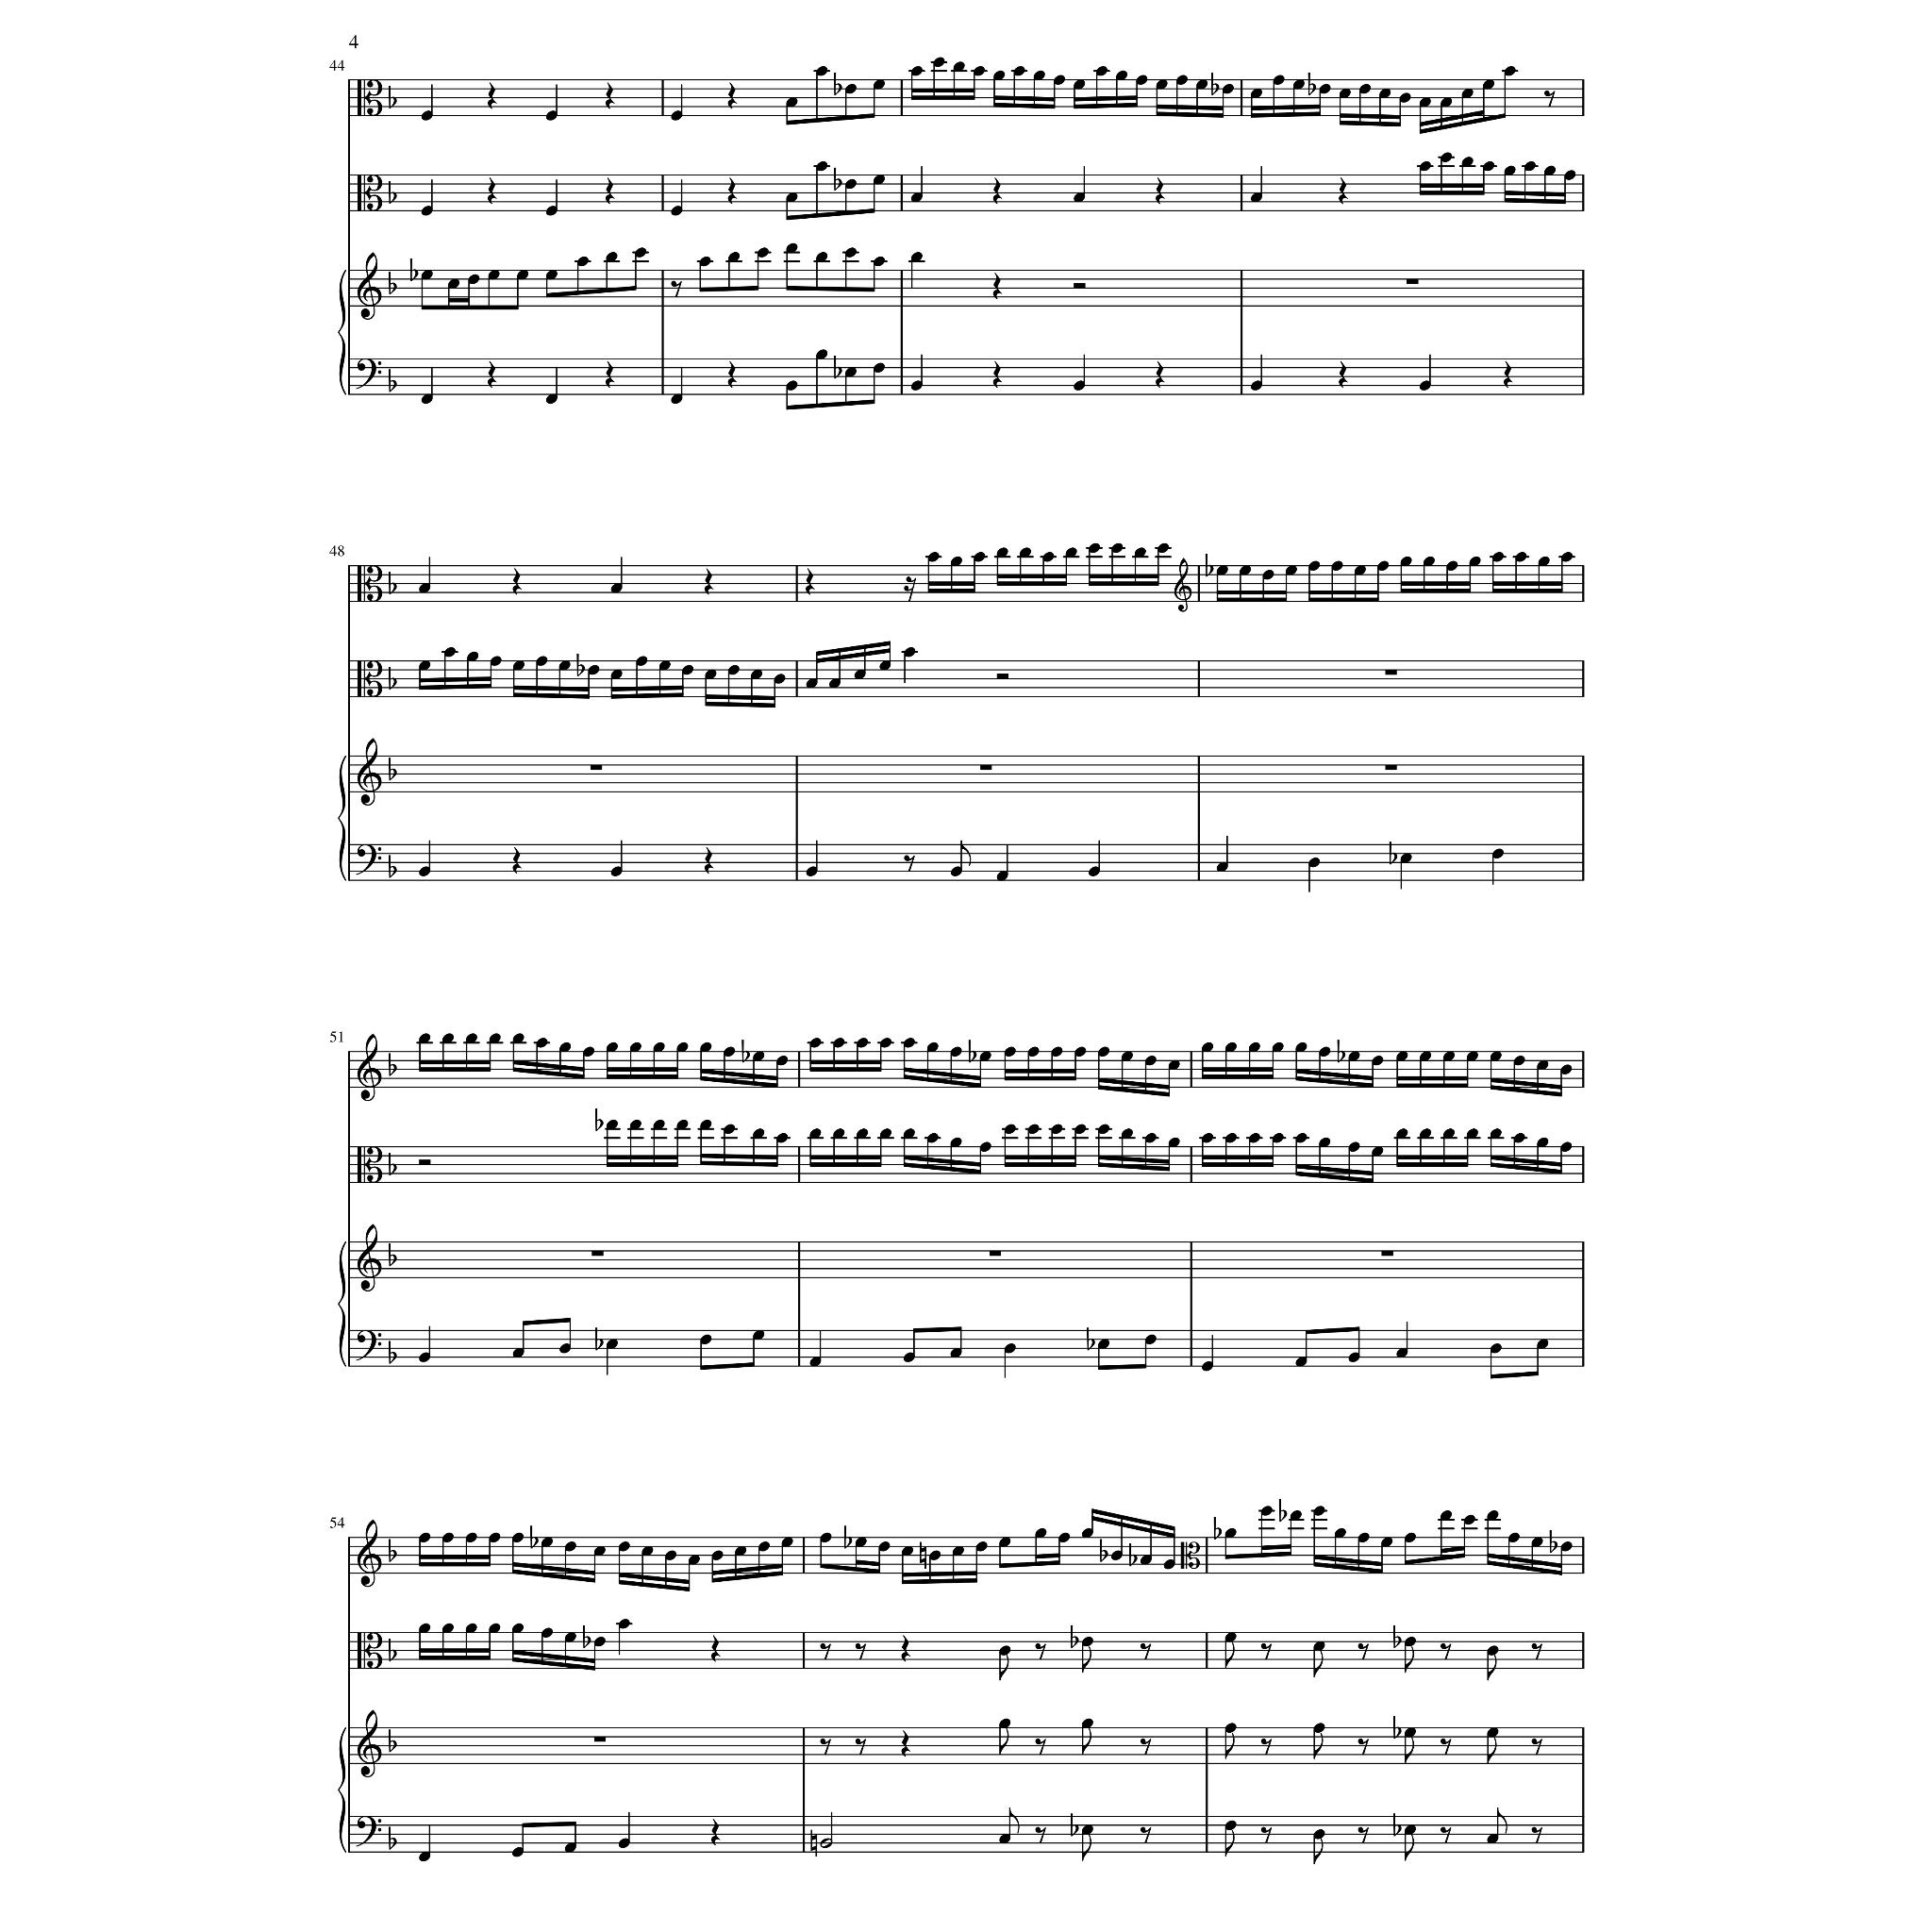brace: (338, 1240, 345, 1368), (338, 269, 345, 395), (338, 755, 345, 881), (338, 1727, 345, 1852)
fClef: (354, 357, 380, 389), (354, 844, 380, 876), (354, 1815, 380, 1847), (354, 1330, 380, 1361)
flag8thDown: (1315, 1732, 1323, 1759), (1226, 1829, 1235, 1856), (1226, 1642, 1235, 1668), (1226, 1732, 1235, 1759), (1315, 1651, 1323, 1677), (1083, 1645, 1092, 1672), (1083, 1729, 1092, 1755), (1083, 1835, 1092, 1861), (1488, 1654, 1497, 1681), (1488, 1737, 1497, 1764), (1315, 1838, 1323, 1865), (1405, 1645, 1414, 1672), (1405, 1737, 1414, 1764), (1405, 1835, 1414, 1861), (1000, 1729, 1008, 1755), (1000, 1654, 1008, 1681)
flag8thUp: (1497, 1808, 1507, 1835), (1008, 1808, 1019, 1835), (961, 840, 971, 865)
gClef: (357, 251, 380, 320), (357, 1709, 380, 1778), (357, 1518, 380, 1587), (357, 738, 380, 805), (357, 1224, 380, 1292), (357, 1033, 380, 1100)
noteheadBlack: (1177, 74, 1189, 85), (1136, 74, 1148, 85), (1221, 83, 1233, 94), (1095, 65, 1108, 76), (1251, 87, 1263, 97), (993, 69, 1005, 80), (971, 65, 984, 76), (932, 57, 945, 67), (952, 60, 964, 71), (1012, 65, 1024, 76), (1033, 69, 1046, 80), (1053, 74, 1065, 85), (1523, 161, 1536, 172), (1545, 165, 1557, 175), (1483, 161, 1495, 172), (1564, 170, 1576, 180), (1338, 87, 1350, 97), (1359, 83, 1371, 94), (1272, 74, 1284, 85), (1318, 83, 1330, 94), (1440, 97, 1453, 108), (1461, 87, 1474, 97), (1461, 156, 1474, 166), (1378, 87, 1391, 97), (1398, 92, 1410, 103), (1419, 97, 1431, 108), (1419, 161, 1431, 172), (605, 251, 617, 262), (545, 110, 557, 120), (545, 205, 557, 216), (545, 269, 557, 280), (545, 393, 557, 403), (671, 110, 683, 120), (633, 246, 646, 257), (515, 269, 527, 280), (671, 205, 683, 216), (671, 393, 683, 403), (487, 269, 499, 280), (446, 278, 458, 288), (467, 272, 479, 283), (872, 173, 885, 184), (844, 83, 856, 94), (844, 246, 856, 257), (844, 366, 856, 377), (909, 251, 922, 262), (872, 255, 885, 265), (872, 361, 885, 372), (909, 65, 922, 76), (786, 97, 798, 108), (786, 242, 798, 253), (755, 246, 768, 257), (699, 255, 711, 265), (816, 65, 828, 76), (816, 161, 828, 172), (816, 251, 828, 262), (816, 349, 828, 359), (727, 251, 740, 262), (1157, 541, 1169, 552), (1215, 564, 1228, 575), (1215, 862, 1228, 872), (927, 552, 939, 563), (1134, 547, 1146, 557), (1111, 541, 1123, 552), (1238, 564, 1251, 575), (996, 547, 1008, 557), (973, 552, 985, 563), (996, 870, 1008, 881), (950, 865, 962, 876), (950, 556, 962, 566), (1065, 547, 1077, 557), (1042, 552, 1054, 563), (1019, 547, 1031, 557), (1537, 556, 1550, 566), (1514, 552, 1527, 563), (1560, 552, 1573, 563), (1491, 552, 1504, 563), (1468, 556, 1481, 566), (1330, 559, 1343, 570), (1353, 564, 1366, 575), (1261, 570, 1274, 580), (1284, 564, 1297, 575), (1307, 559, 1320, 570), (1307, 856, 1320, 867), (1422, 556, 1435, 566), (1445, 559, 1458, 570), (1399, 853, 1412, 863), (1399, 556, 1412, 566), (1376, 559, 1389, 570), (536, 655, 548, 665), (557, 660, 570, 671), (511, 660, 524, 671), (488, 655, 501, 665), (635, 655, 648, 665), (658, 660, 671, 671), (587, 665, 600, 676), (610, 582, 623, 593), (610, 669, 623, 679), (610, 865, 623, 876), (467, 651, 479, 662), (418, 865, 430, 876), (418, 660, 430, 671), (418, 582, 430, 593), (805, 678, 817, 688), (805, 865, 817, 876), (828, 678, 840, 688), (853, 669, 865, 679), (879, 660, 892, 671), (750, 669, 763, 679), (704, 669, 717, 679), (727, 665, 740, 676), (773, 672, 786, 683), (681, 665, 694, 676), (1201, 1361, 1214, 1371), (1224, 1042, 1237, 1053), (1224, 1132, 1237, 1143), (1295, 1042, 1307, 1053), (1295, 1132, 1307, 1143), (1295, 1355, 1307, 1366), (1318, 1138, 1330, 1148), (1247, 1042, 1260, 1053), (1247, 1132, 1260, 1143), (1270, 1042, 1283, 1053), (1270, 1132, 1283, 1143), (1074, 1123, 1086, 1134), (1097, 1123, 1109, 1134), (1097, 1339, 1109, 1350), (1026, 1123, 1039, 1134), (1051, 1123, 1063, 1134), (1168, 1138, 1180, 1148), (1168, 1060, 1180, 1070), (1201, 1042, 1214, 1053), (1122, 1051, 1134, 1062), (1122, 1127, 1134, 1138), (1201, 1132, 1214, 1143), (1536, 1339, 1548, 1350), (1560, 1063, 1573, 1074), (1560, 1141, 1573, 1152), (1513, 1054, 1525, 1065), (1513, 1132, 1525, 1143), (1536, 1060, 1548, 1070), (1536, 1138, 1548, 1148), (1371, 1054, 1384, 1065), (1396, 1051, 1408, 1062), (1396, 1127, 1408, 1138), (1396, 1348, 1408, 1359), (1348, 1051, 1361, 1062), (1348, 1141, 1361, 1152), (1348, 1352, 1361, 1362), (1467, 1051, 1479, 1062), (1467, 1127, 1479, 1138), (1490, 1051, 1502, 1062), (1490, 1127, 1502, 1138), (1490, 1343, 1502, 1353), (1419, 1051, 1431, 1062), (1419, 1127, 1431, 1138), (1442, 1051, 1454, 1062), (1442, 1127, 1454, 1138), (653, 1042, 665, 1053), (653, 1120, 665, 1131), (605, 1042, 617, 1053), (605, 1120, 617, 1131), (605, 1339, 617, 1350), (724, 1123, 736, 1134), (752, 1051, 764, 1062), (752, 1127, 764, 1138), (676, 1042, 688, 1053), (676, 1120, 688, 1131), (699, 1042, 711, 1053), (699, 1120, 711, 1131), (699, 1334, 711, 1345), (418, 1352, 430, 1362), (536, 1037, 548, 1047), (511, 1348, 524, 1359), (559, 1042, 571, 1053), (559, 1343, 571, 1353), (902, 1352, 915, 1362), (925, 1042, 938, 1053), (925, 1132, 938, 1143), (879, 1037, 892, 1047), (879, 1127, 892, 1138), (902, 1037, 915, 1047), (902, 1127, 915, 1138), (1003, 1123, 1016, 1134), (1003, 1343, 1016, 1353), (950, 1138, 962, 1148), (950, 1348, 962, 1359), (978, 1051, 991, 1062), (978, 1141, 991, 1152), (809, 1037, 821, 1047), (809, 1127, 821, 1138), (809, 1355, 821, 1366), (856, 1127, 869, 1138), (856, 1037, 869, 1047), (1313, 1506, 1325, 1516), (1313, 1723, 1325, 1734), (1313, 1829, 1325, 1840), (1260, 1506, 1272, 1516), (1290, 1509, 1302, 1520), (1081, 1637, 1093, 1647), (1081, 1718, 1093, 1729), (1081, 1824, 1093, 1835), (1058, 1532, 1070, 1543), (1162, 1559, 1175, 1569), (1224, 1633, 1237, 1644), (1224, 1723, 1237, 1734), (1224, 1821, 1237, 1831), (1139, 1553, 1152, 1564), (1109, 1550, 1122, 1560), (1507, 1532, 1520, 1543), (1530, 1537, 1543, 1548), (1486, 1509, 1499, 1520), (1486, 1645, 1499, 1656), (1486, 1833, 1499, 1844), (1560, 1541, 1573, 1552), (1380, 1537, 1392, 1548), (1405, 1532, 1417, 1543), (1405, 1637, 1417, 1647), (1405, 1824, 1417, 1835), (1357, 1532, 1369, 1543), (1440, 1509, 1453, 1520), (1463, 1514, 1476, 1525), (564, 1541, 577, 1552), (564, 1633, 577, 1644), (593, 1546, 605, 1557), (541, 1537, 554, 1548), (541, 1628, 554, 1638), (640, 1546, 653, 1557), (686, 1553, 699, 1564), (593, 1637, 605, 1647), (511, 1847, 524, 1858), (617, 1541, 630, 1552), (617, 1619, 630, 1629), (617, 1838, 630, 1849), (418, 1532, 430, 1543), (418, 1622, 430, 1633), (418, 1851, 430, 1861), (488, 1532, 501, 1543), (488, 1622, 501, 1633), (511, 1532, 524, 1543), (511, 1622, 524, 1633), (441, 1532, 453, 1543), (441, 1622, 453, 1633), (665, 1550, 678, 1560), (465, 1532, 478, 1543), (465, 1622, 478, 1633), (998, 1833, 1010, 1844), (998, 1718, 1010, 1729), (878, 1541, 890, 1552), (855, 1537, 867, 1548), (929, 1550, 941, 1560), (975, 1541, 987, 1552), (952, 1546, 964, 1557), (998, 1645, 1010, 1656), (901, 1546, 913, 1557), (998, 1537, 1010, 1548), (734, 1546, 747, 1557), (757, 1541, 770, 1552), (780, 1537, 793, 1548), (711, 1550, 724, 1560), (819, 1532, 832, 1543), (1116, 69, 1127, 80), (1504, 65, 1514, 76), (1504, 165, 1514, 175), (577, 255, 587, 265), (421, 110, 432, 120), (421, 205, 432, 216), (421, 269, 432, 280), (421, 393, 432, 403), (1088, 865, 1099, 876), (1088, 541, 1099, 552), (1145, 1054, 1155, 1065), (1145, 1132, 1155, 1143), (1145, 1334, 1155, 1345), (630, 1042, 640, 1053), (630, 1120, 640, 1131), (777, 1132, 787, 1143), (777, 1054, 787, 1065), (833, 1037, 844, 1047), (833, 1127, 844, 1138), (1196, 80, 1208, 88), (1155, 80, 1168, 88), (1251, 380, 1263, 389), (1251, 193, 1263, 202), (1483, 80, 1495, 88), (1293, 80, 1306, 88), (1440, 152, 1453, 161), (1419, 380, 1431, 389), (872, 80, 885, 88), (844, 179, 856, 188), (909, 380, 922, 389), (909, 193, 922, 202), (786, 193, 798, 202), (786, 380, 798, 389), (1491, 849, 1504, 858), (442, 648, 455, 656), (1318, 1047, 1330, 1056), (1097, 1047, 1109, 1056), (1074, 1047, 1086, 1056), (1026, 1047, 1039, 1056), (1051, 1047, 1063, 1056), (1371, 1146, 1384, 1155), (582, 1047, 594, 1056), (724, 1047, 736, 1056), (752, 1330, 764, 1339), (418, 1033, 430, 1042), (441, 1033, 453, 1042), (465, 1033, 478, 1042), (488, 1033, 501, 1042), (511, 1033, 524, 1042), (1003, 1047, 1016, 1056), (950, 1047, 962, 1056), (1313, 1642, 1325, 1651), (1081, 1529, 1093, 1537), (1224, 1529, 1237, 1537), (1486, 1729, 1499, 1737), (1405, 1729, 1417, 1737), (1334, 1529, 1346, 1537), (564, 1844, 577, 1852), (1035, 1529, 1047, 1537), (1074, 193, 1085, 202), (1074, 380, 1085, 389), (1074, 80, 1085, 88), (904, 648, 915, 656)
noteheadHalf: (819, 1838, 833, 1849)
rest16th: (902, 577, 916, 602)
rest8th: (1543, 88, 1555, 108), (671, 280, 683, 297), (1260, 1644, 1272, 1660), (1260, 1739, 1272, 1755), (1260, 1828, 1272, 1844), (1139, 1644, 1152, 1660), (1139, 1739, 1152, 1755), (1139, 1828, 1152, 1844), (1530, 1828, 1543, 1844), (1530, 1644, 1543, 1660), (1530, 1739, 1543, 1755), (1357, 1644, 1369, 1660), (1357, 1739, 1369, 1755), (1357, 1828, 1369, 1844), (819, 1644, 832, 1660), (819, 1739, 832, 1755), (904, 855, 915, 872), (1440, 1644, 1451, 1660), (1440, 1739, 1451, 1755), (1440, 1828, 1451, 1844), (1035, 1828, 1046, 1844), (855, 1644, 865, 1660), (855, 1739, 865, 1755), (1035, 1739, 1046, 1755), (1035, 1644, 1046, 1660)
restHalf: (418, 1159, 430, 1166), (1074, 281, 1085, 288), (996, 672, 1008, 678)
restQuarter: (1502, 359, 1513, 387), (901, 1635, 911, 1661), (901, 1730, 911, 1757), (1155, 359, 1164, 387), (993, 359, 1001, 387), (1339, 359, 1348, 387), (605, 359, 614, 387), (605, 81, 614, 110), (487, 81, 495, 110), (487, 359, 495, 387), (727, 359, 736, 387), (727, 81, 736, 110), (1155, 177, 1164, 203), (993, 177, 1001, 203), (993, 272, 1001, 299), (1339, 177, 1348, 203), (605, 177, 614, 203), (487, 177, 495, 203), (727, 177, 736, 203), (513, 568, 522, 594), (513, 847, 522, 874), (805, 568, 814, 594), (704, 568, 713, 594), (704, 847, 713, 874), (711, 1635, 720, 1661), (711, 1819, 720, 1845)
restWhole: (1407, 278, 1419, 283), (980, 764, 993, 770), (589, 764, 602, 770), (1384, 669, 1396, 674), (1384, 764, 1396, 770), (989, 1251, 1001, 1256), (591, 1251, 603, 1256), (1380, 1251, 1392, 1256), (593, 1737, 605, 1743)
